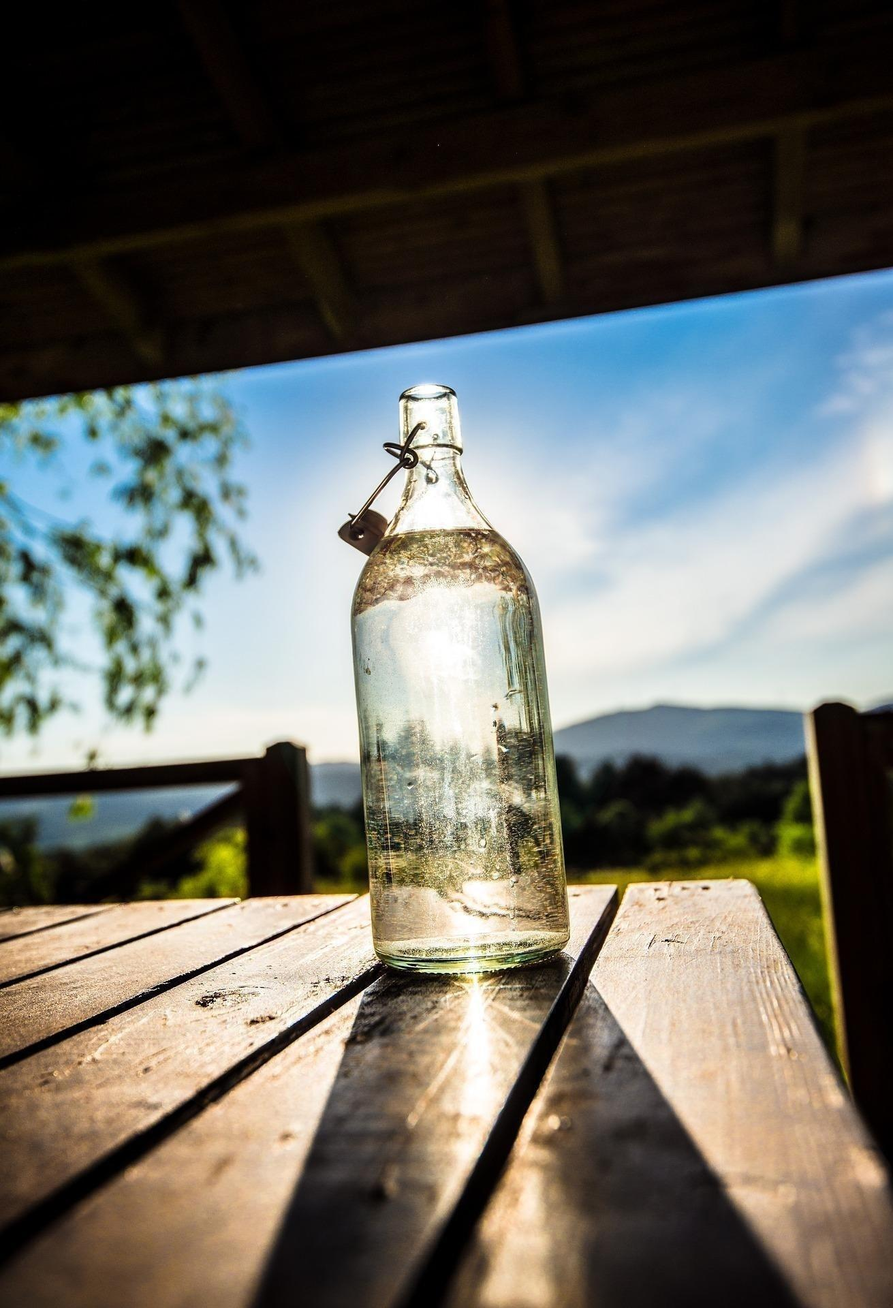bottle-glass: (348, 381, 575, 978)
